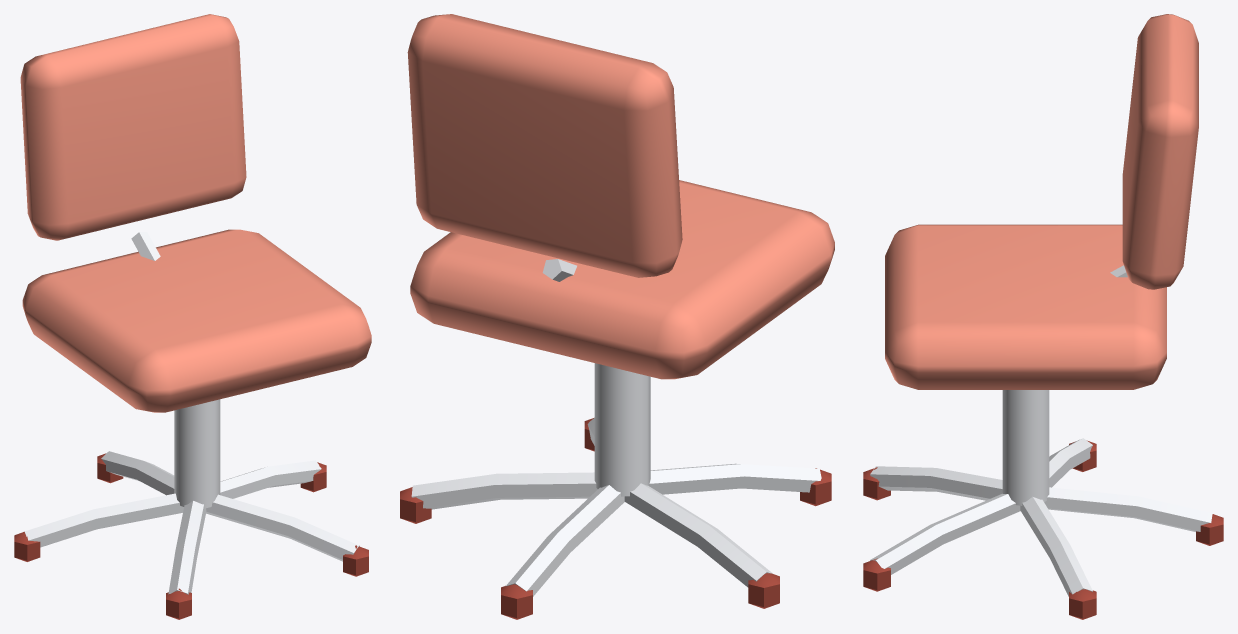
Rendered from chair_swivel_pink.glb.
The picture shows the model from 3 angles, left to right: view 1: azimuth 30°, elevation 25°; view 2: azimuth 150°, elevation 25°; view 3: azimuth 270°, elevation 25°; orthographic projection. The views are drawn at different scales.
Parts seen in each view (by area): view 1: chair_swivel_pink; view 2: chair_swivel_pink; view 3: chair_swivel_pink.
Boxes of the visible parts, box(x1,y1,x2,y2) form: chair_swivel_pink: box(14, 14, 371, 619); chair_swivel_pink: box(400, 14, 834, 619); chair_swivel_pink: box(863, 14, 1223, 619).
Bounding box in the file's own units: 0.6226 × 0.8796 × 0.5877.
